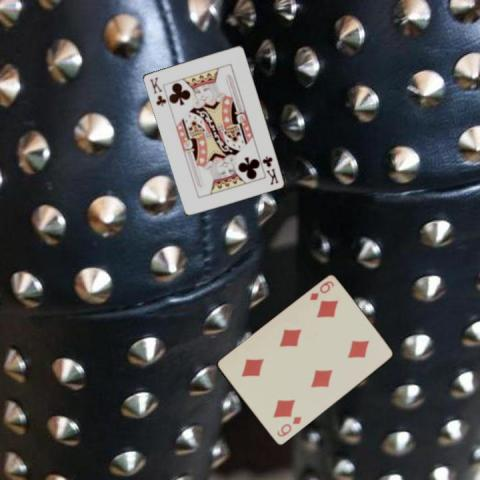6d: (274, 413, 303, 439), (306, 278, 335, 302)
Kc: (259, 153, 280, 186), (146, 74, 166, 108)
